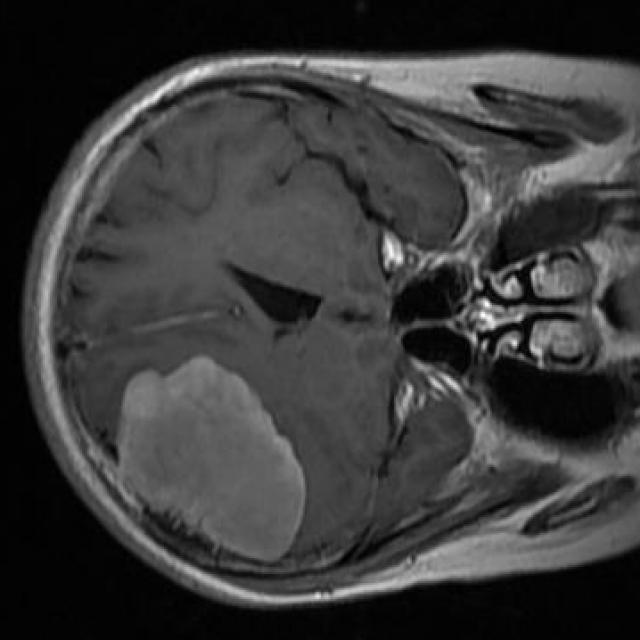meningioma: (118, 357, 303, 563)
